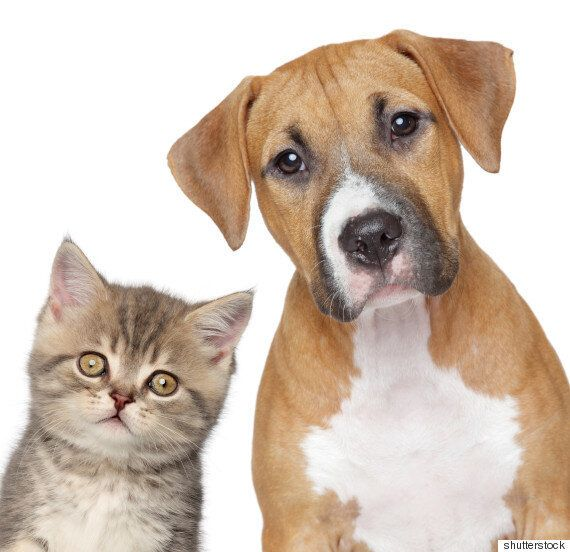cat: (3, 225, 251, 552)
dog: (136, 23, 570, 543)
